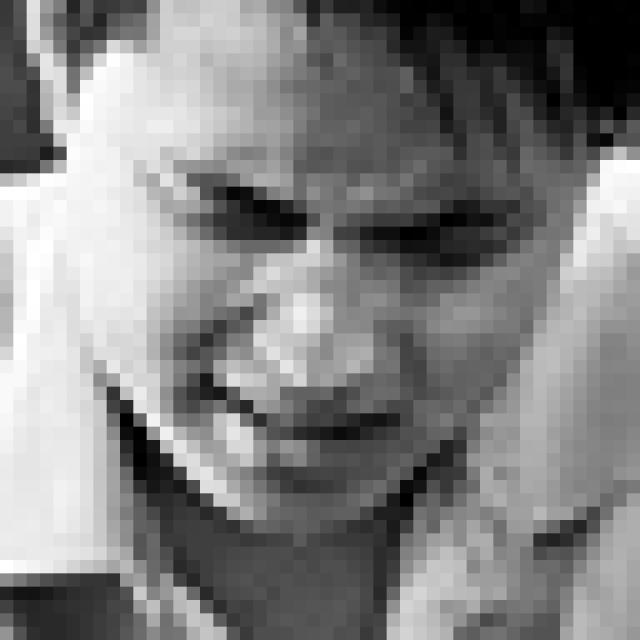sad: (135, 135, 549, 498)
